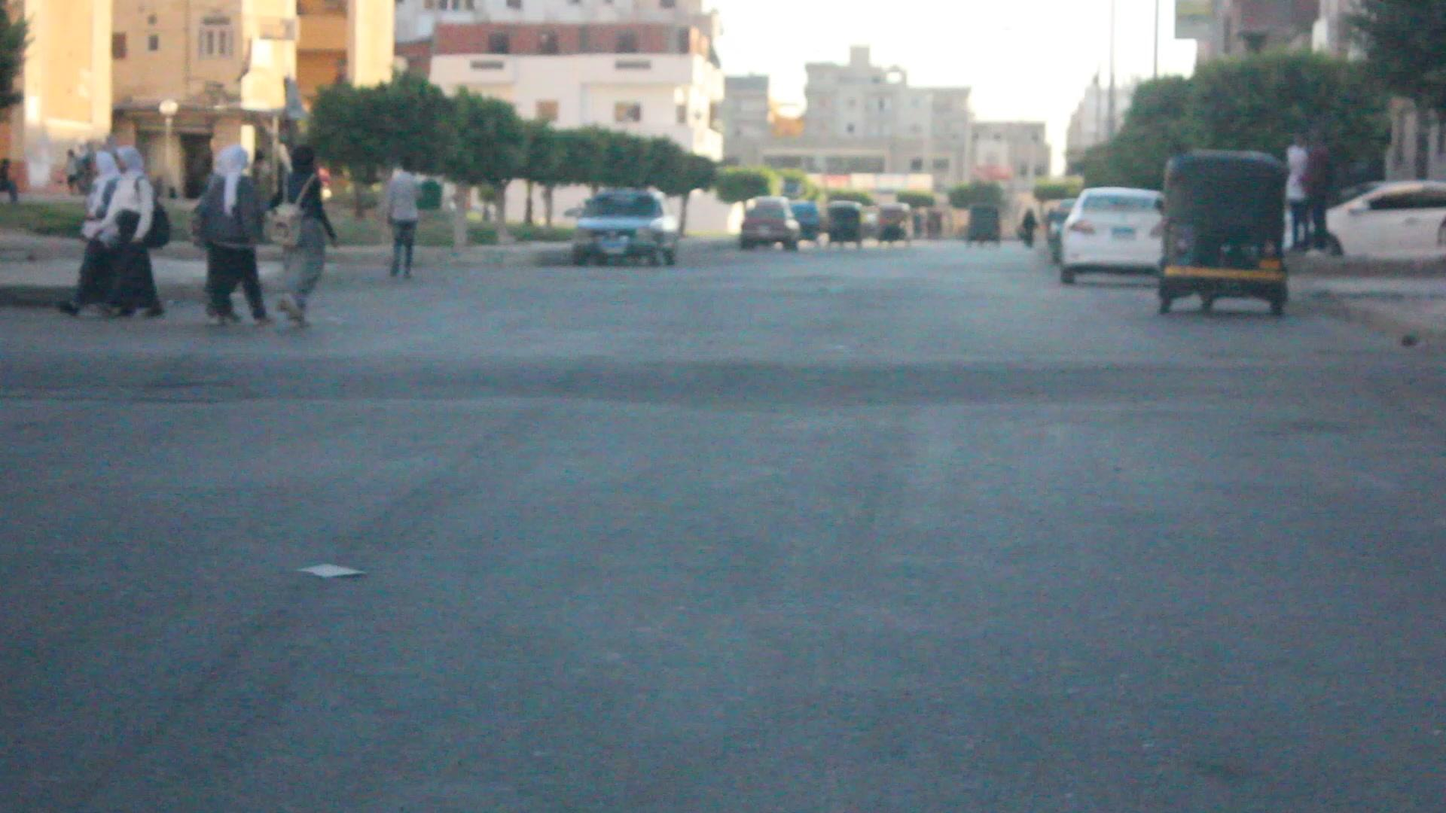Bump: (0, 324, 1420, 422)
